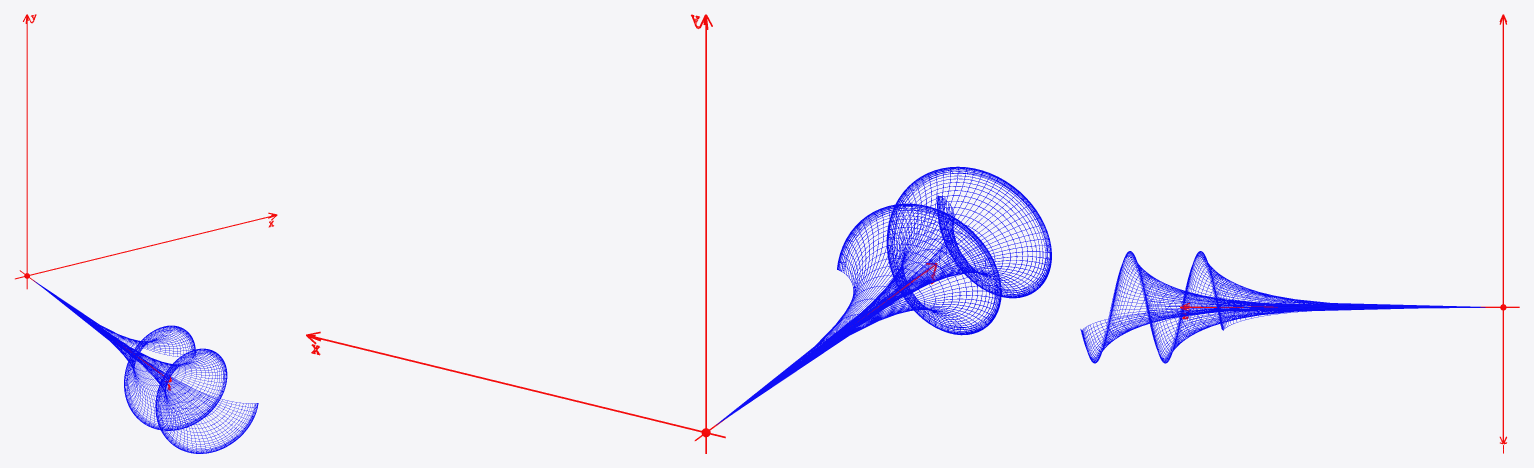
The model's file is DiniWithCoods.glb.
3 renders of one model, left to right at view 1: azimuth 30°, elevation 25°; view 2: azimuth 150°, elevation 25°; view 3: azimuth 270°, elevation 25°, orthographic. The views are drawn at different scales.
Bounding box in the file's own units: 1.18 × 1.18 × 1.36.
